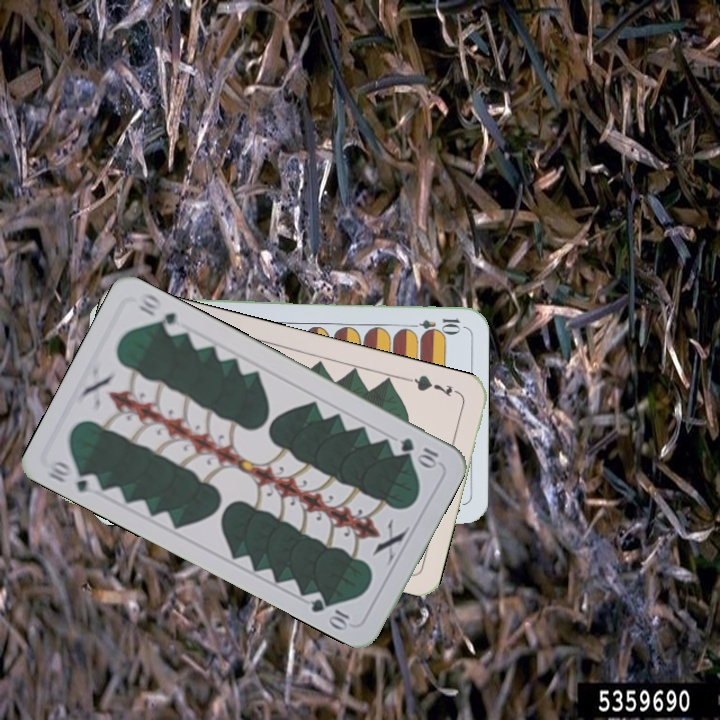E10: (404, 314, 463, 332)
G10: (42, 457, 103, 497), (395, 433, 442, 471)
G7: (404, 371, 462, 400)
